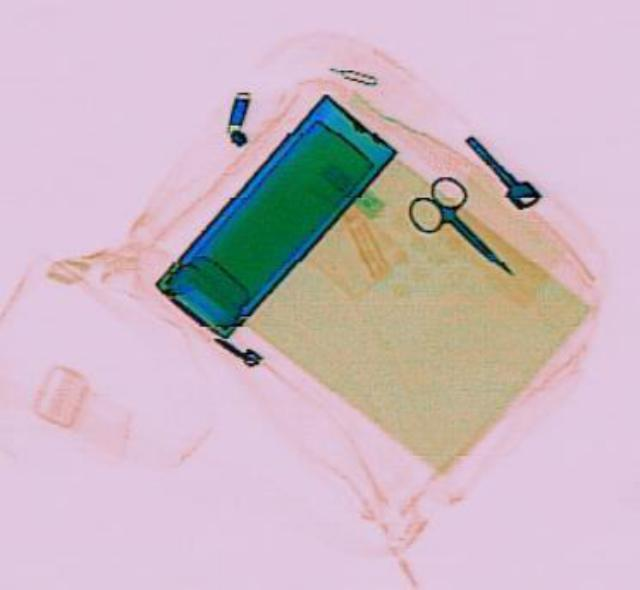Scissors: (393, 167, 535, 290)
